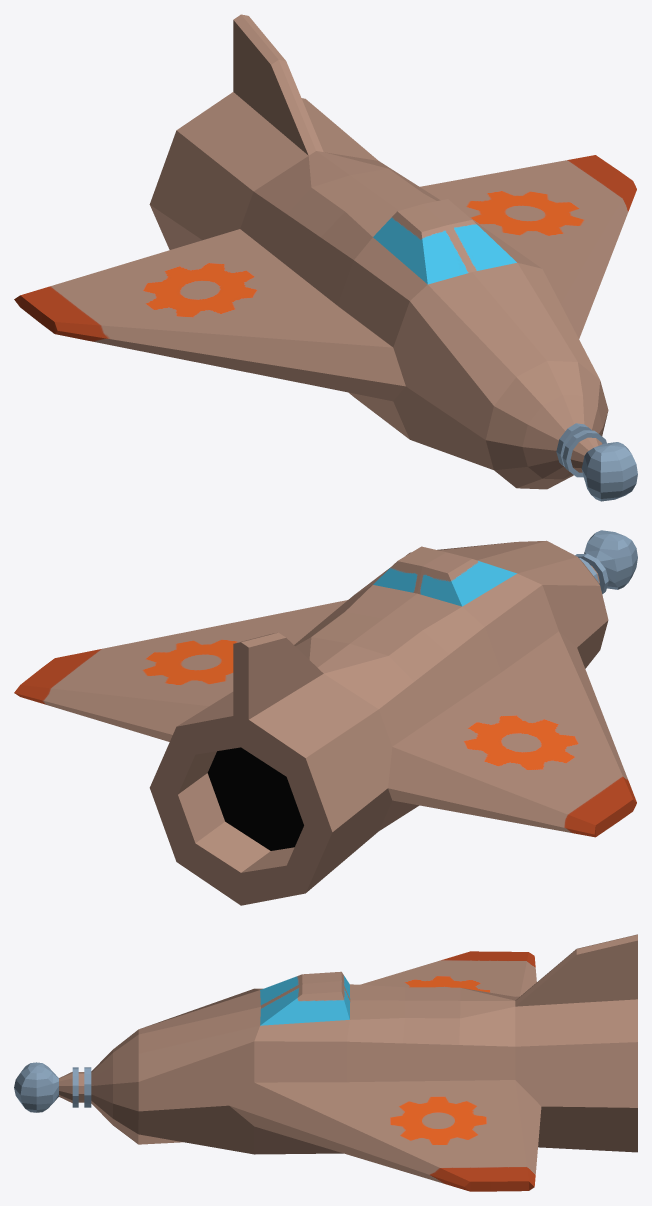
Rendered from PlayerShip.fbx.
3 views of the same model, one above another, from view 1: azimuth 30°, elevation 25°; view 2: azimuth 150°, elevation 25°; view 3: azimuth 270°, elevation 25° (orthographic). The views are drawn at different scales.
Visible parts, largest first — view 1: Cube; view 2: Cube; view 3: Cube.
Boxes of the visible parts, x1,y1,x2,y2 form: Cube: (14,14,637,501); Cube: (14,530,637,905); Cube: (14,934,637,1191).
Bounding box in the file's own units: 767 × 332 × 875.
Materials: 1 (1 with a texture image).
